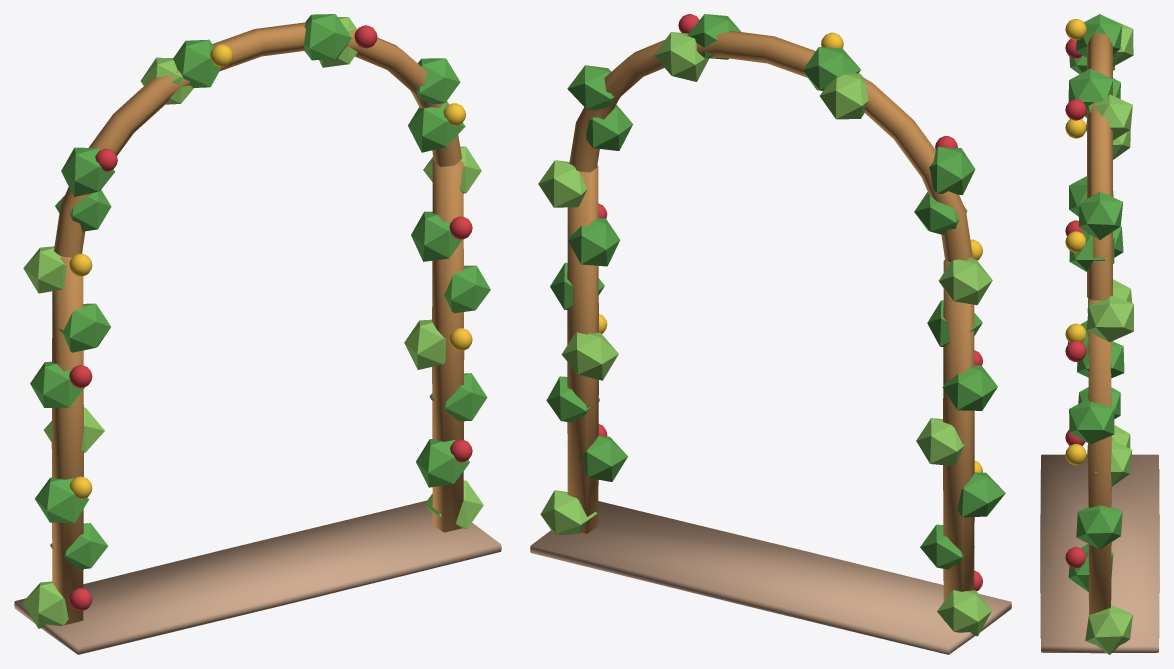
File: garden_arch.glb
3 views of the same model, side by side, from view 1: azimuth 30°, elevation 25°; view 2: azimuth 150°, elevation 25°; view 3: azimuth 270°, elevation 25° (orthographic). The views are drawn at different scales.
Parts seen in each view (by area): view 1: root; view 2: root; view 3: root.
Part boxes in pixels (x1,y1,x2,y2): root: [14, 14, 501, 654]; root: [530, 14, 1011, 654]; root: [1040, 14, 1159, 654].
Bounding box in the file's own units: 2 × 2.38 × 0.5.
